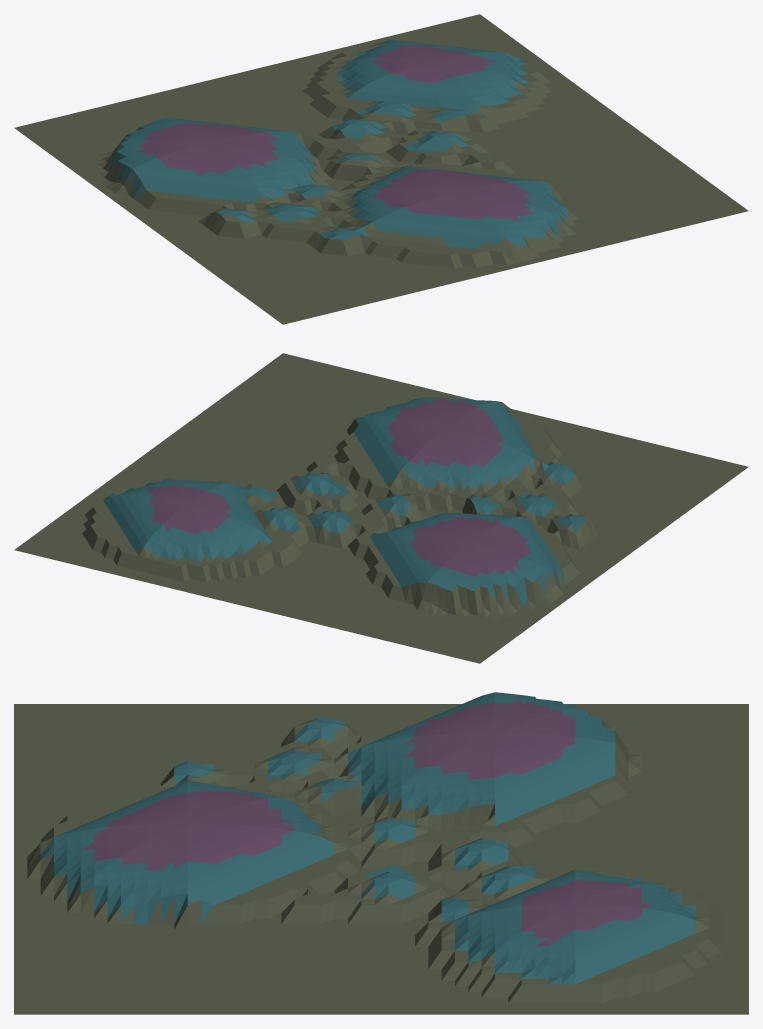
Rendered from digIsland.fbx.
The picture shows the model from 3 angles, top to bottom: view 1: azimuth 30°, elevation 25°; view 2: azimuth 150°, elevation 25°; view 3: azimuth 270°, elevation 25°; orthographic projection. The views are drawn at different scales.
Visible parts, largest first — view 1: Plane; view 2: Plane; view 3: Plane.
Boxes of the visible parts, <box> form: Plane: <box>14,14,748,324</box>; Plane: <box>14,353,748,663</box>; Plane: <box>14,692,748,1014</box>.
Size of the model in its own units: 16 by 0.936 by 16.
